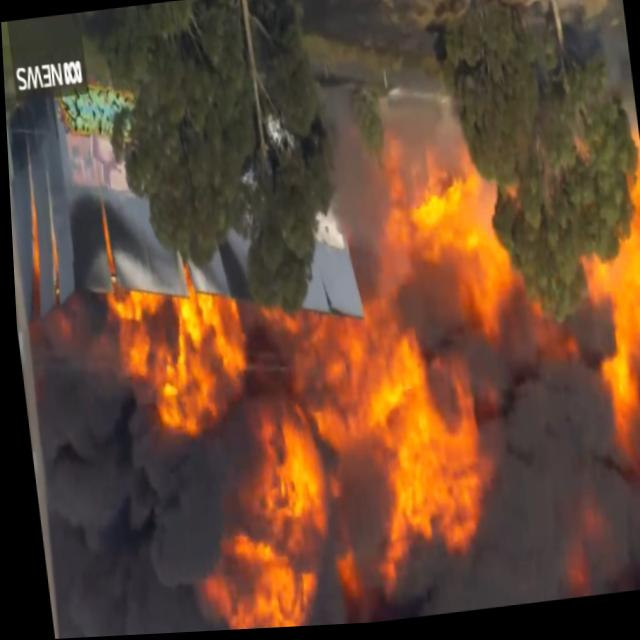Fire: (156, 282, 499, 634), (389, 185, 512, 345), (578, 257, 640, 459), (614, 142, 640, 260)
